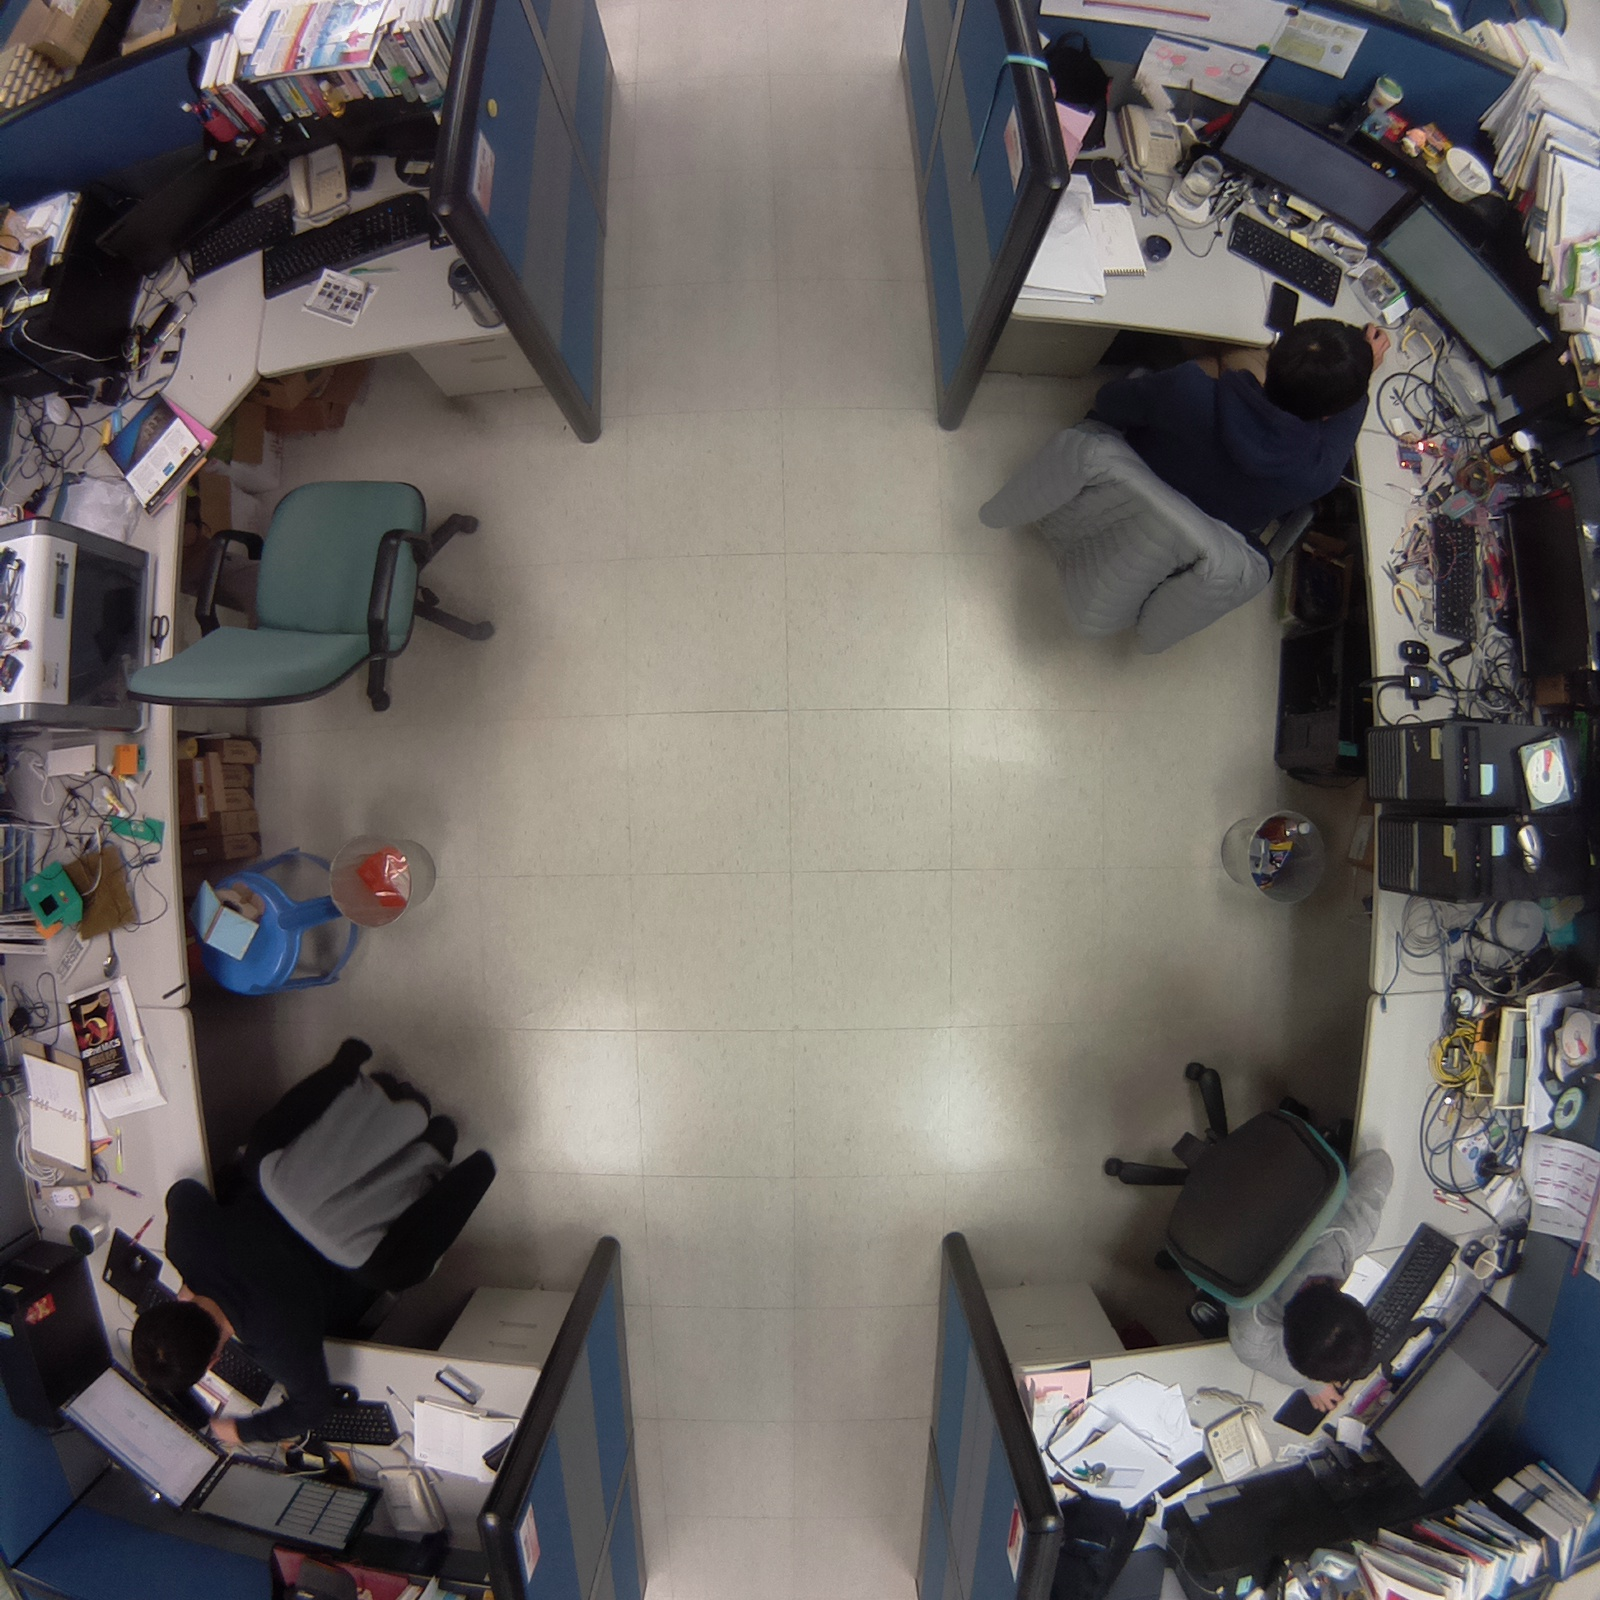chair: (99, 442, 514, 745)
head: (121, 1289, 241, 1407), (1259, 317, 1380, 425), (1278, 1280, 1383, 1387)
sitting: (106, 1014, 517, 1460), (955, 299, 1419, 688), (1086, 1029, 1427, 1406)
